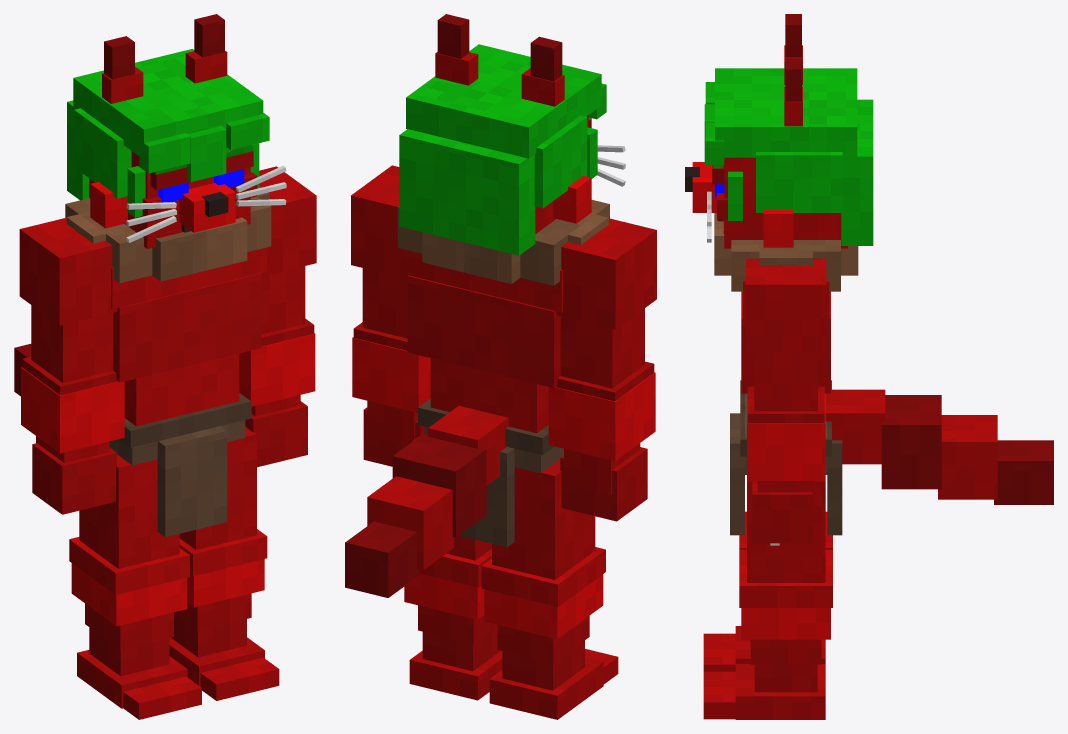
The model's file is beastfolk_s1_evo1.glb.
The picture shows the model from 3 angles, left to right: view 1: azimuth 30°, elevation 25°; view 2: azimuth 150°, elevation 25°; view 3: azimuth 270°, elevation 25°; orthographic projection. The views are drawn at different scales.
Visible parts, largest first — view 1: Torso, Head, ArmR, LegR, LegL, ArmL; view 2: Torso, Head, ArmR, LegR, ArmL, LegL; view 3: Head, Torso, ArmL, LegL, LegR.
Part boxes in pixels (x1,y1,x2,y2): Torso: (14, 186, 271, 537); Head: (67, 14, 286, 248); ArmR: (19, 217, 124, 514); LegR: (69, 454, 201, 719); LegL: (169, 427, 279, 700); ArmL: (239, 166, 316, 467); Torso: (345, 200, 609, 597); Head: (399, 14, 625, 255); ArmR: (548, 218, 656, 521); LegR: (481, 459, 618, 719); ArmL: (351, 165, 430, 466); LegL: (404, 436, 502, 700); Head: (685, 14, 873, 248); Torso: (714, 213, 1053, 535); ArmL: (746, 258, 826, 545); LegL: (703, 481, 832, 719); LegR: (703, 511, 832, 671).
Size of the model in its own units: 0.797 by 1.89 by 0.985.
Materials: 26 (26 with a texture image).
